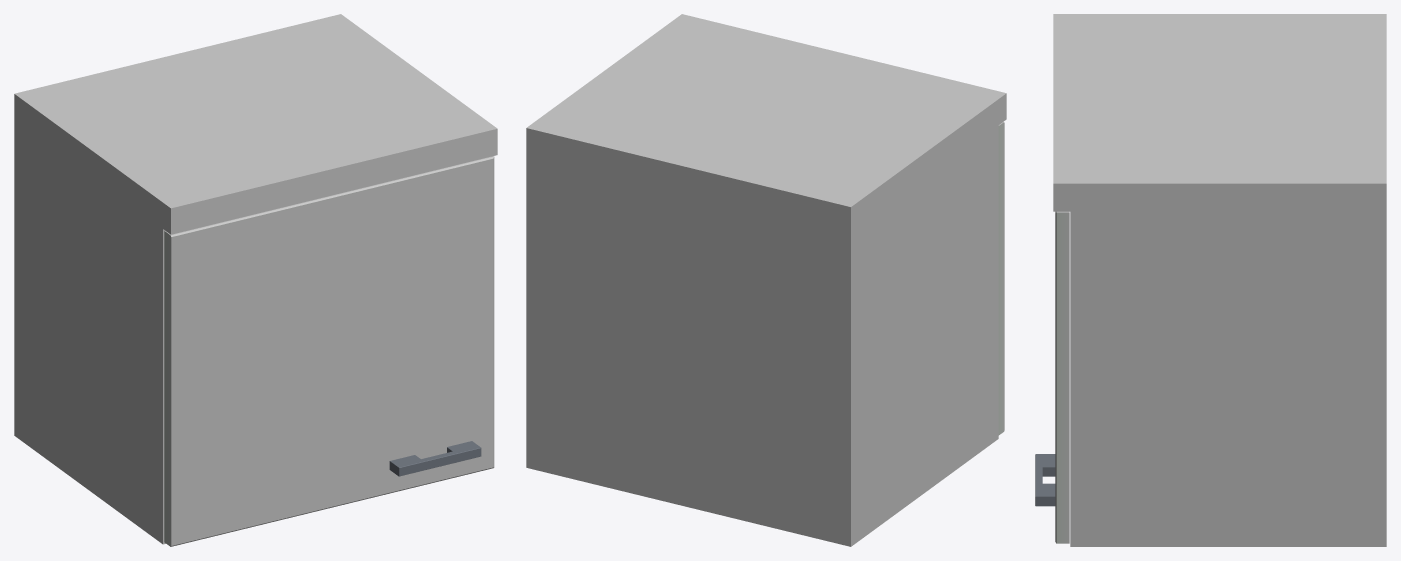
The model's file is topkaappi_GJ22.fbx.
3 renders of one model, left to right at view 1: azimuth 30°, elevation 25°; view 2: azimuth 150°, elevation 25°; view 3: azimuth 270°, elevation 25°, orthographic. The views are drawn at different scales.
Parts seen in each view (by area): view 1: Kaappi, Ovi; view 2: Kaappi, Ovi; view 3: Kaappi, Ovi.
Part boxes in pixels (<box>): Kaappi: <box>14,14,497,544</box>; Ovi: <box>164,156,494,546</box>; Kaappi: <box>526,14,1006,546</box>; Ovi: <box>998,122,1004,435</box>; Kaappi: <box>1053,14,1386,546</box>; Ovi: <box>1035,211,1069,543</box>.
Bounding box in the file's own units: 100 × 100 × 87.57.
